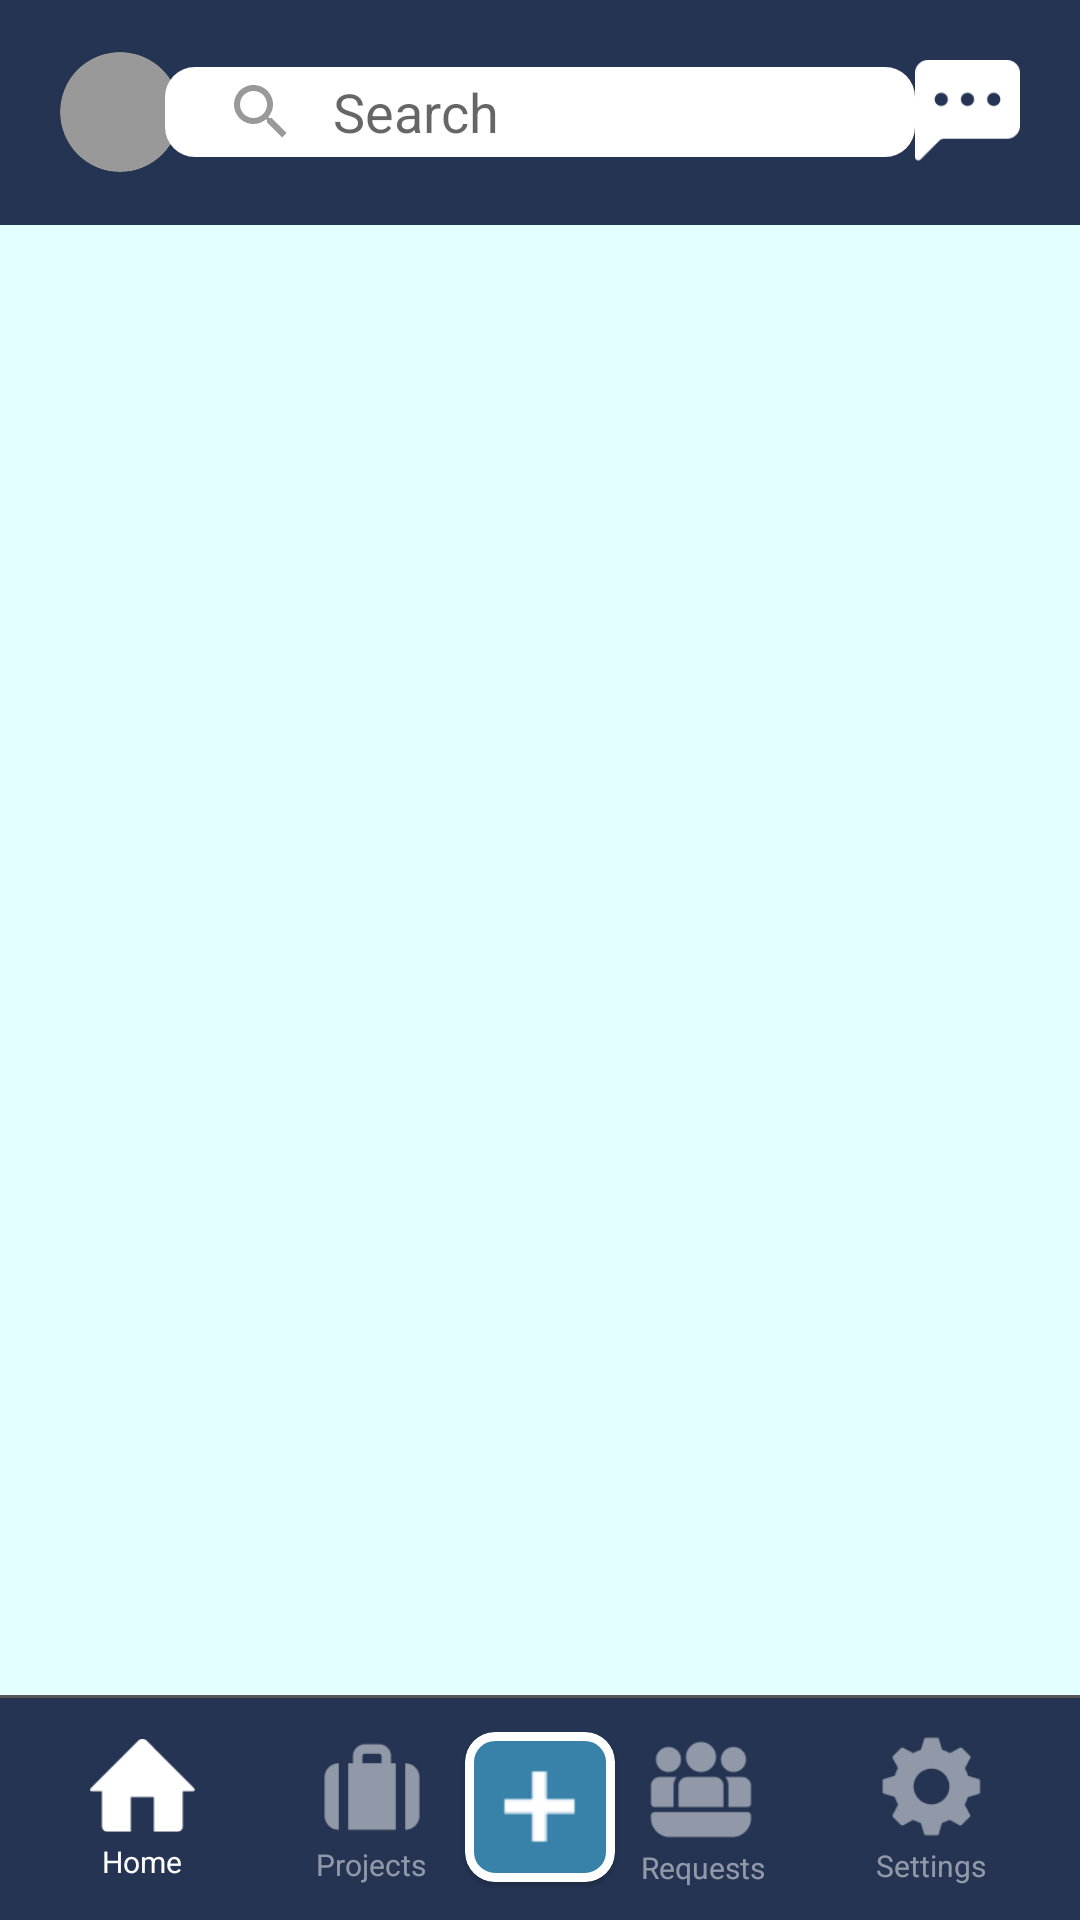

Icons on this 1080*1920 Android screen, each with the point to tap as (x,y):
briefcase: (372,1787)
chat: (967,110)
people: (701,1789)
plus sign: (539,1806)
